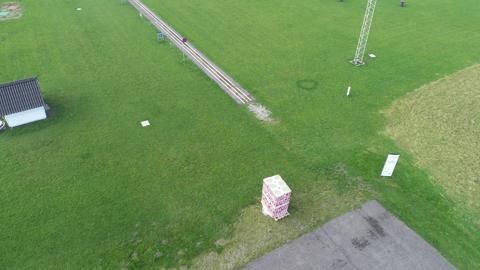RockwoolPallet: (261, 174, 293, 219)
